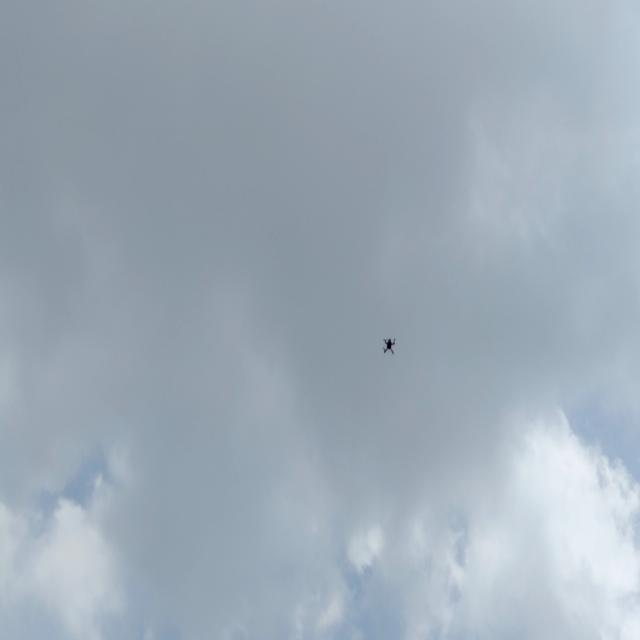drone: (378, 332, 401, 358)
